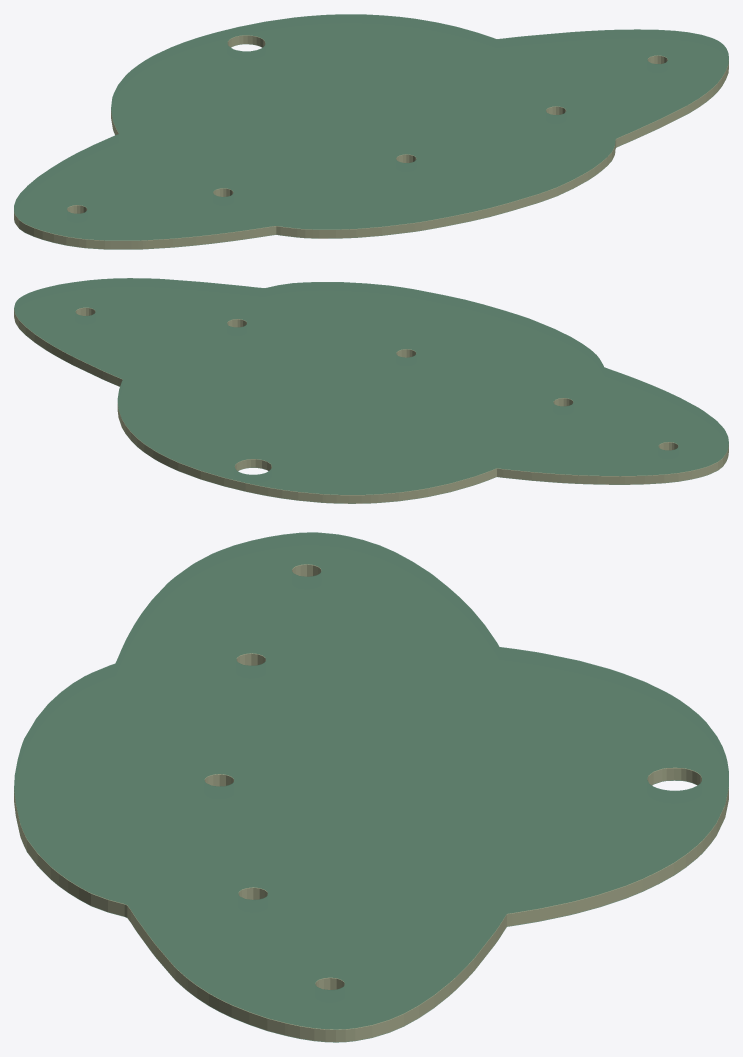
The model's file is bsides-cheltenham-2024-ufo-badge.glb.
3 renders of one model, top to bottom at view 1: azimuth 30°, elevation 25°; view 2: azimuth 150°, elevation 25°; view 3: azimuth 270°, elevation 25°, orthographic. The views are drawn at different scales.
Visible parts, largest first — view 1: =>[0:1:1:7], =>[0:1:1:5]; view 2: =>[0:1:1:7], =>[0:1:1:5]; view 3: =>[0:1:1:7], =>[0:1:1:5].
Boxes of the visible parts, left/top/right/bottom form: =>[0:1:1:7]: left=14, top=15, right=728, bottom=249; =>[0:1:1:5]: left=14, top=14, right=728, bottom=249; =>[0:1:1:7]: left=14, top=279, right=728, bottom=503; =>[0:1:1:5]: left=14, top=278, right=728, bottom=503; =>[0:1:1:7]: left=14, top=533, right=728, bottom=1042; =>[0:1:1:5]: left=14, top=532, right=728, bottom=1042.
Size of the model in its own units: 0.1321 by 0.00164 by 0.0803.
4 materials, 4 textured.
